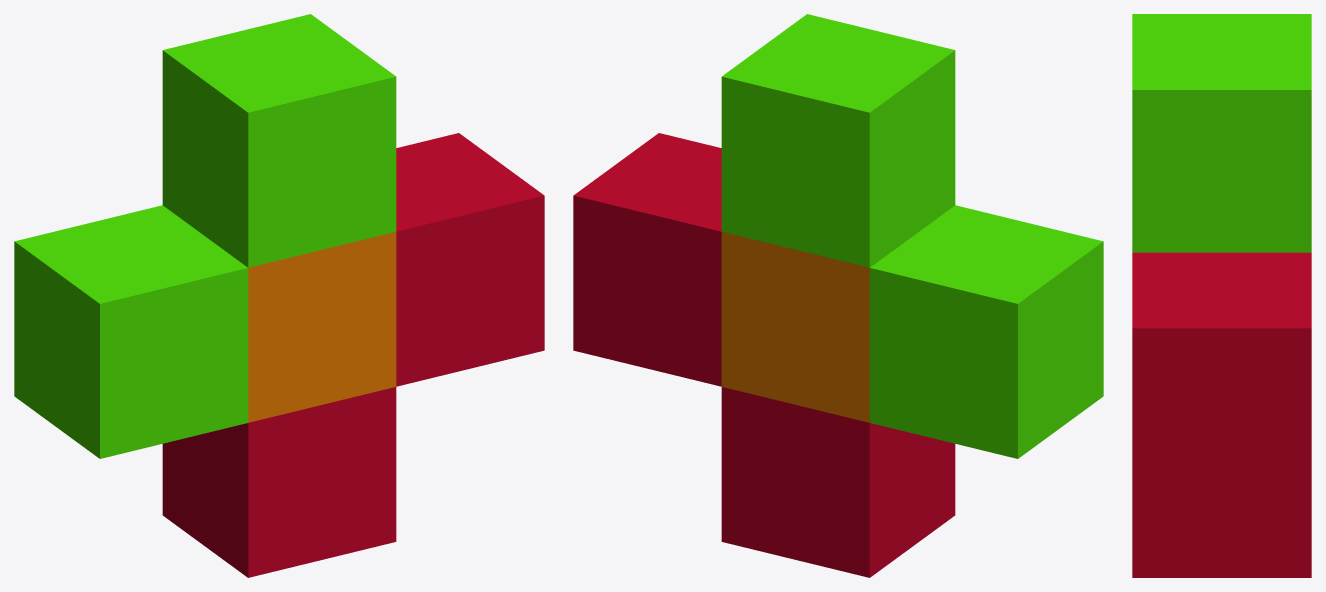
3 renders of one model, left to right at view 1: azimuth 30°, elevation 25°; view 2: azimuth 150°, elevation 25°; view 3: azimuth 270°, elevation 25°, orthographic. The views are drawn at different scales.
Parts seen in each view (by area): view 1: exp-L1-dirXNEG-links, exp-L1-dirYPOS-oben, exp-L1-dirYNEG-unten, exp-L1-dirXPOS-rechts, mitte; view 2: exp-L1-dirXNEG-links, exp-L1-dirYPOS-oben, exp-L1-dirYNEG-unten, exp-L1-dirXPOS-rechts, mitte; view 3: exp-L1-dirYPOS-oben, exp-L1-dirXPOS-rechts, exp-L1-dirYNEG-unten.
Part boxes in pixels (x1=…): exp-L1-dirXNEG-links: x1=14, y1=205, x2=248, y2=458; exp-L1-dirYPOS-oben: x1=162, y1=14, x2=396, y2=267; exp-L1-dirYNEG-unten: x1=162, y1=387, x2=396, y2=577; exp-L1-dirXPOS-rechts: x1=396, y1=133, x2=544, y2=386; mitte: x1=248, y1=232, x2=396, y2=422; exp-L1-dirXNEG-links: x1=869, y1=205, x2=1103, y2=458; exp-L1-dirYPOS-oben: x1=721, y1=14, x2=955, y2=267; exp-L1-dirYNEG-unten: x1=721, y1=387, x2=955, y2=577; exp-L1-dirXPOS-rechts: x1=573, y1=133, x2=721, y2=386; mitte: x1=721, y1=232, x2=869, y2=422; exp-L1-dirYPOS-oben: x1=1132, y1=14, x2=1311, y2=252; exp-L1-dirXPOS-rechts: x1=1132, y1=252, x2=1311, y2=490; exp-L1-dirYNEG-unten: x1=1132, y1=491, x2=1311, y2=577.
Size of the model in its own units: 3 by 3 by 1.
